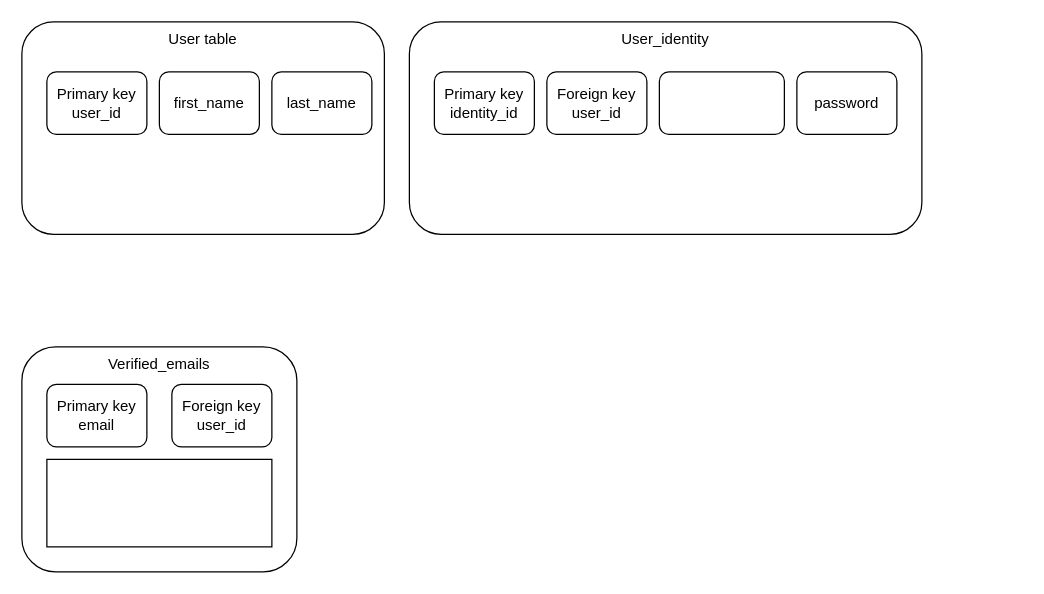
Image size: 1044x594. Some labels were removed from this diagram. Each missing label, with the centre of its shape:
Add to this table after verification process with new email or OIDC email: pixel 159 502
policy_provider local, google, etc: pixel 721 102
